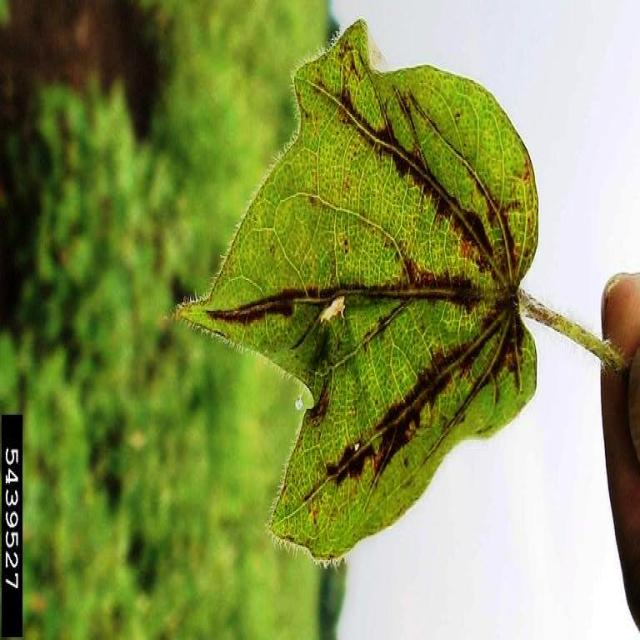Bacterial Blight: (313, 95, 507, 415)
